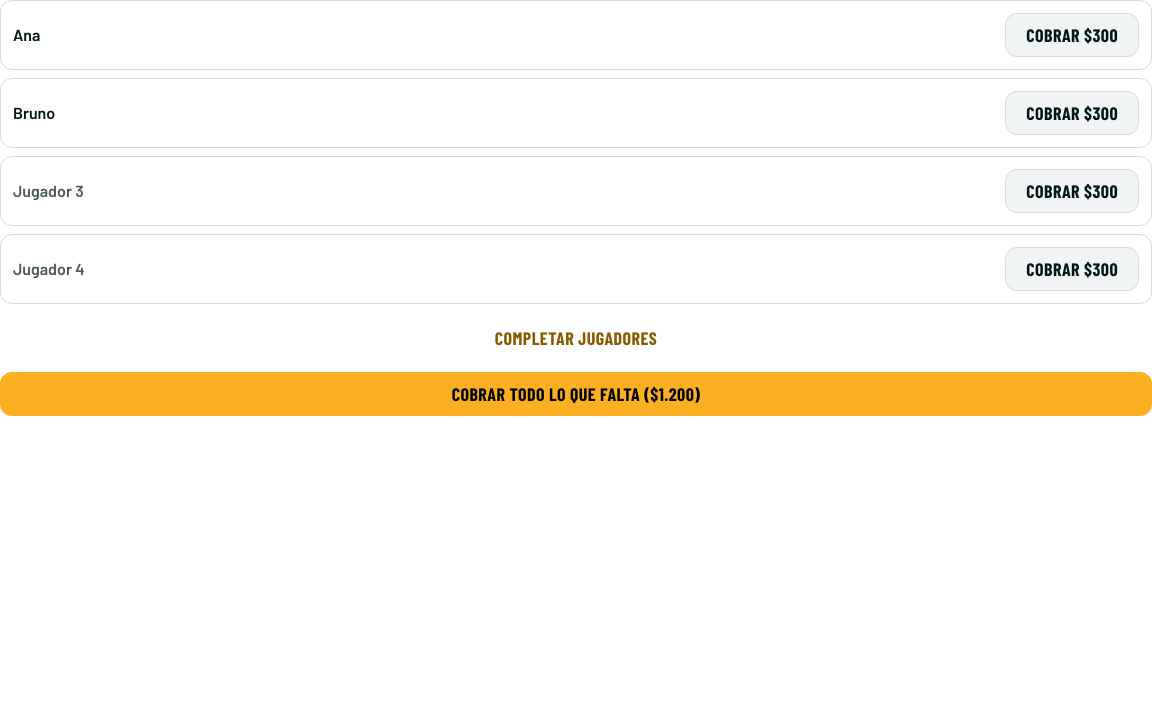
Test: BookingPlayers › opens Completar jugadores with players 2 to 4
Click the button "Completar jugadores": coordinates (576, 338) [0,316,1151,360]
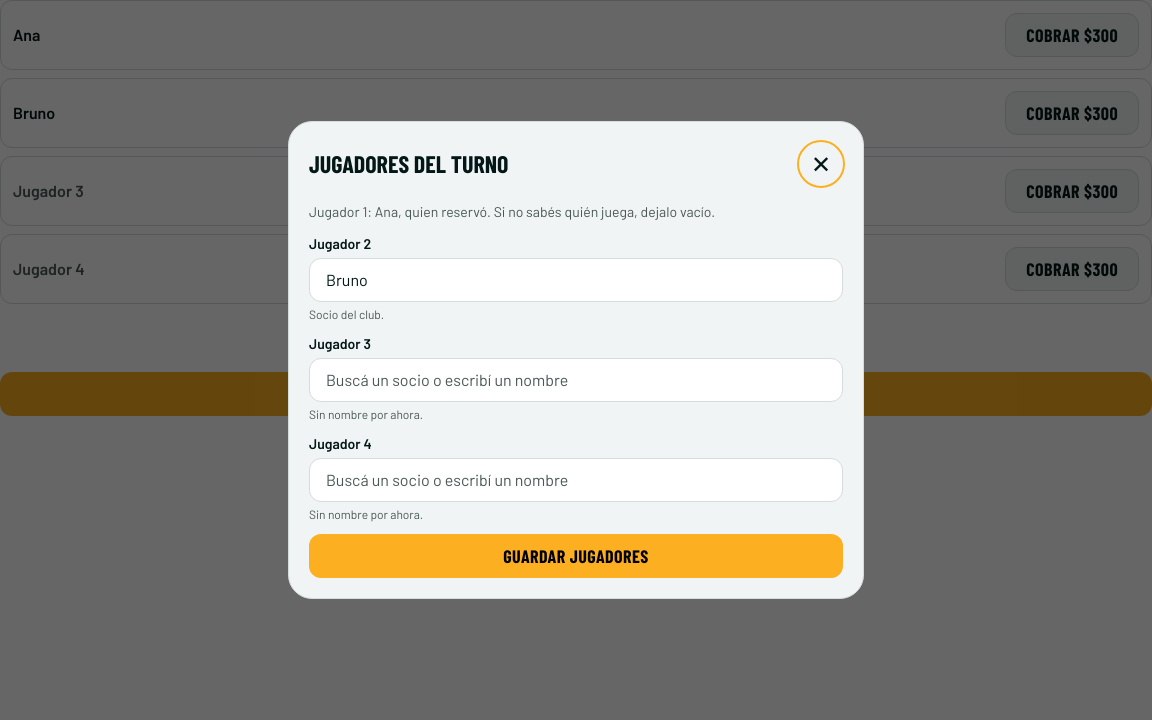
Expected: the dialog "Jugadores del turno" shows "Jugador 1: Ana, quien reservó.", [288,121,864,599]
Expected: the dropdown labelled "Jugador 2" holds "Bruno", [309,258,843,302]
In the dropdown labelled "Jugador 3": coordinates (576, 380) [309,358,843,402], type "Pepe"
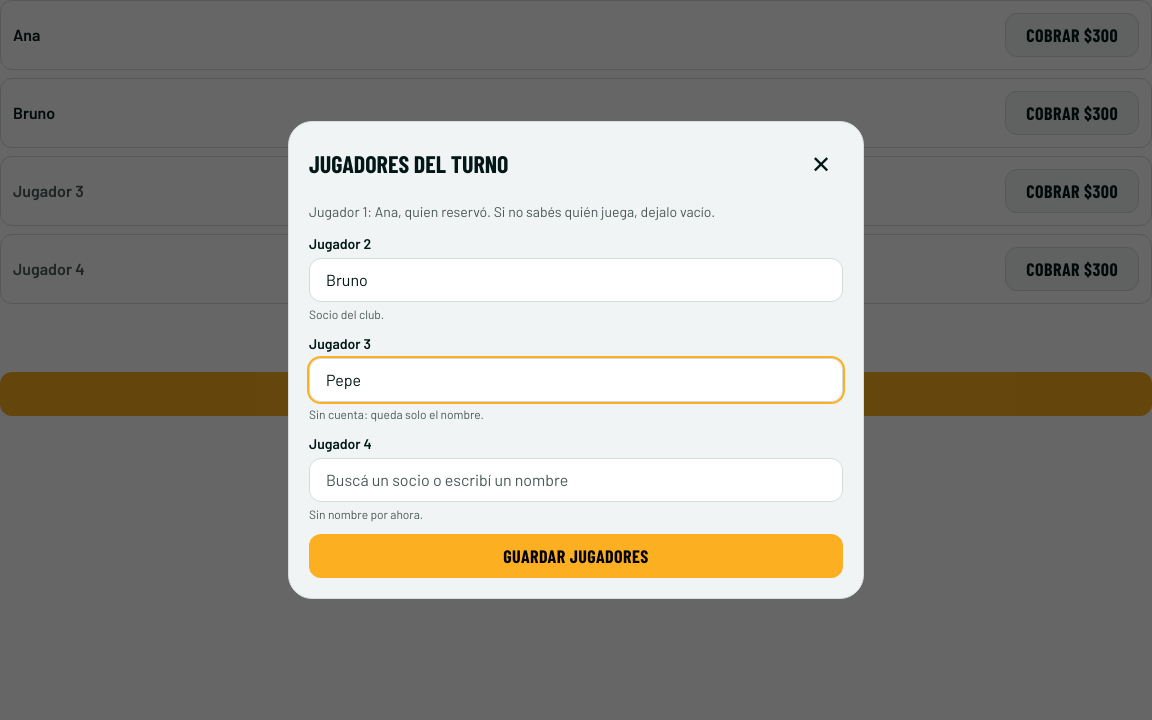
Click the button "Guardar jugadores": coordinates (576, 556) [309,534,843,578]
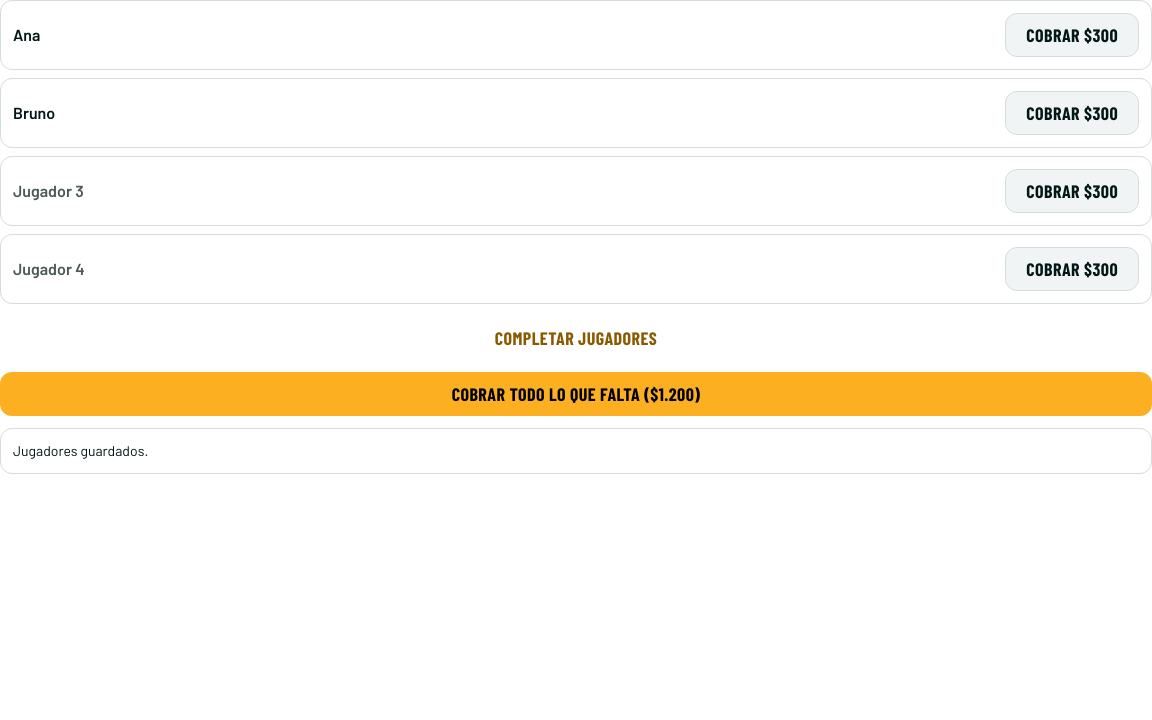
Expected: the message reads "Jugadores guardados.", [13,442,148,459]
Expected: the dialog is gone
